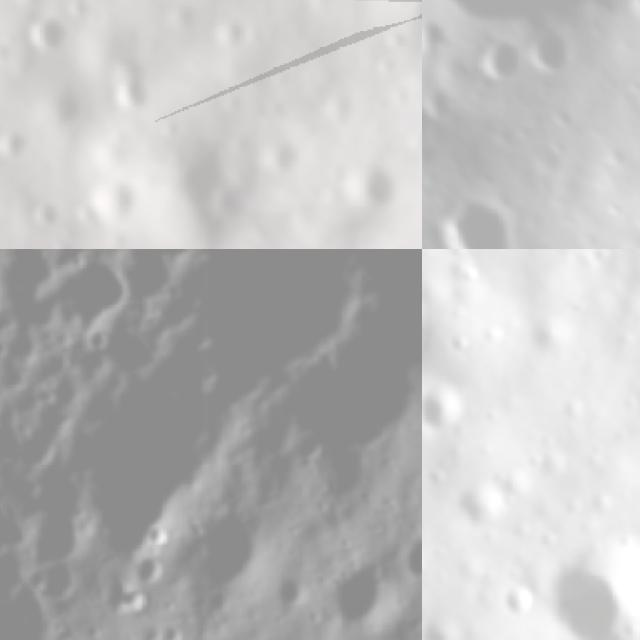crater: (422, 0, 640, 84), (545, 526, 640, 640), (195, 502, 273, 592), (318, 554, 399, 636), (432, 192, 526, 249), (455, 482, 533, 538), (525, 13, 586, 84), (337, 156, 402, 208), (468, 32, 528, 86), (78, 176, 135, 230), (16, 8, 70, 63), (422, 385, 476, 440), (208, 176, 252, 222), (111, 74, 157, 116), (26, 186, 64, 230), (139, 518, 178, 551), (0, 129, 34, 166), (128, 551, 166, 584), (422, 8, 452, 48), (503, 582, 534, 620), (401, 528, 422, 583), (83, 324, 111, 356), (449, 329, 478, 358), (156, 619, 193, 640)
